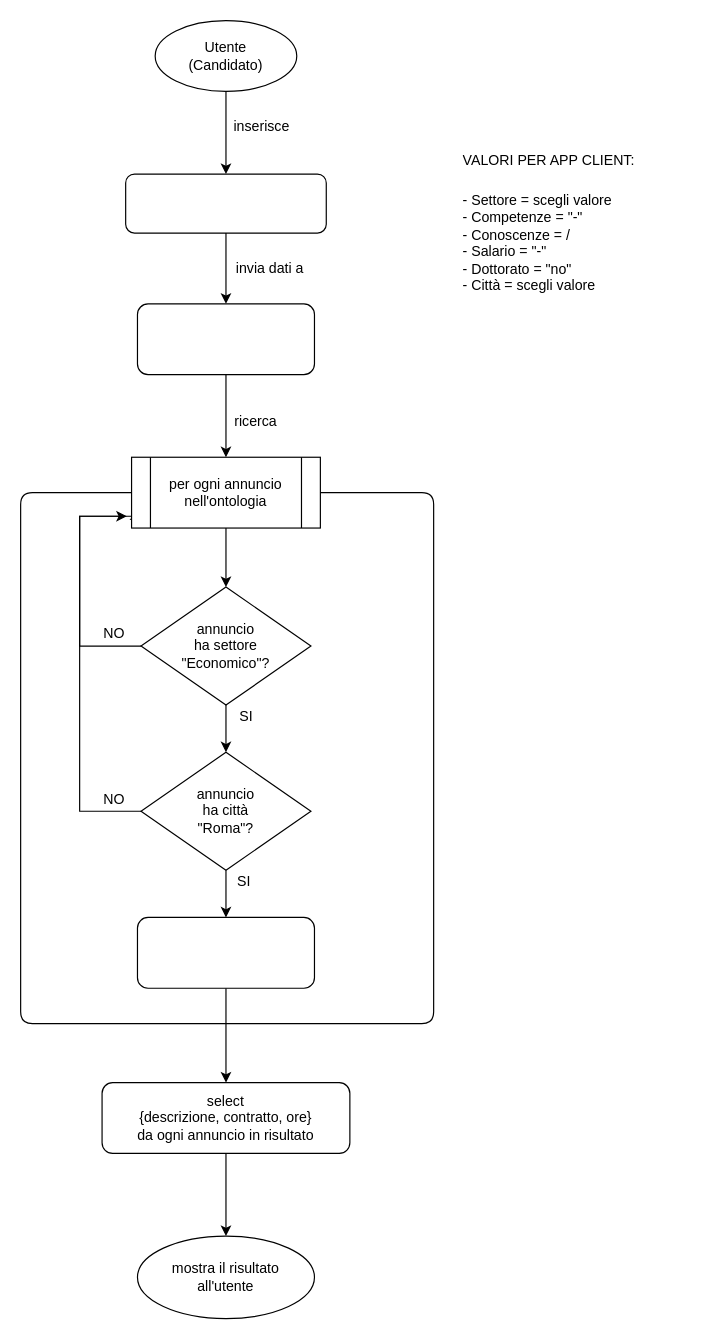
Some shapes in this 702 by 1339 pixel diagram are drawn without their labels. The centre of each missing label's shape, as x and y in pixels:
- Settore = "Economico" - Città = "Roma": point 225,203
aggiungi annuncio al risultato: point 225,952
SIstema (Ontologia del lavoro): point 225,339
